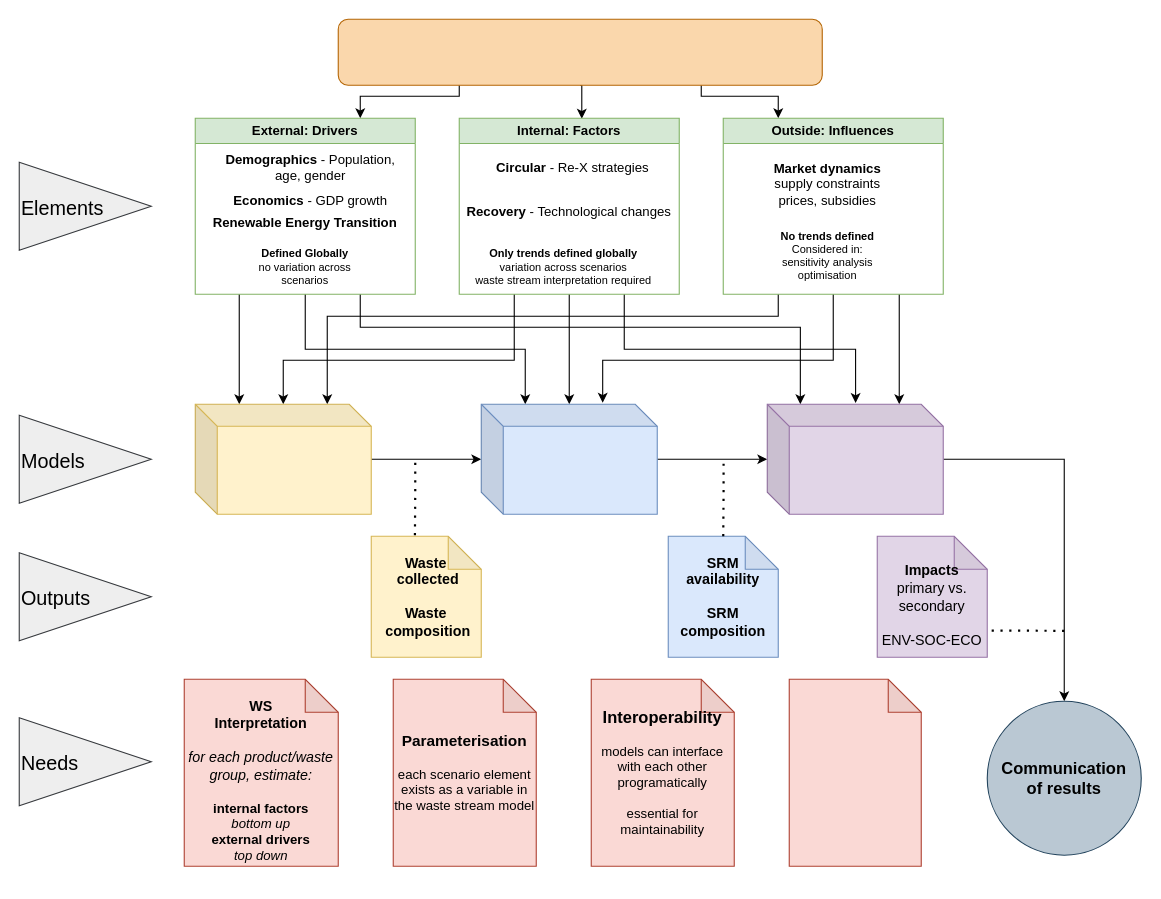
This 1161x899 diagram has some shape labels left out. The shapes that lost their labels are listed below. From the top down, each one's centre as x and y in pixels, then its label:
(x=579, y=51): Future Scenarios
(x=282, y=458): Waste Stream Models
(x=568, y=458): Recovery Model
(x=854, y=458): Impact Assessment Model
